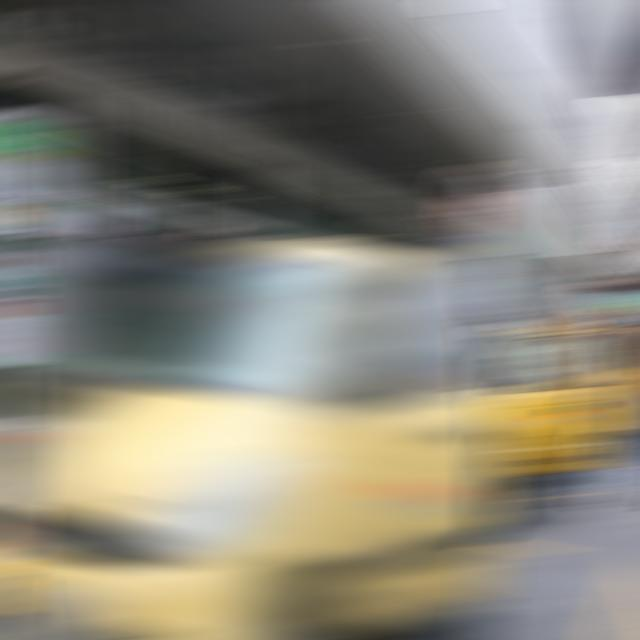Taxi: (8, 238, 494, 639)
